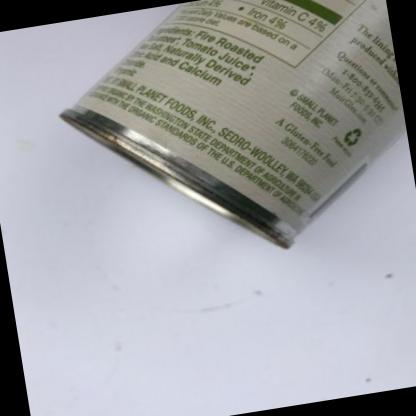Metal: (59, 0, 404, 245)
